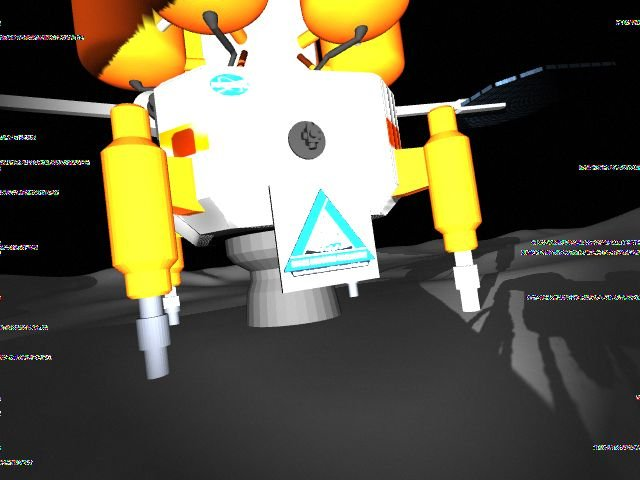basemarker: (284, 187, 377, 279)
